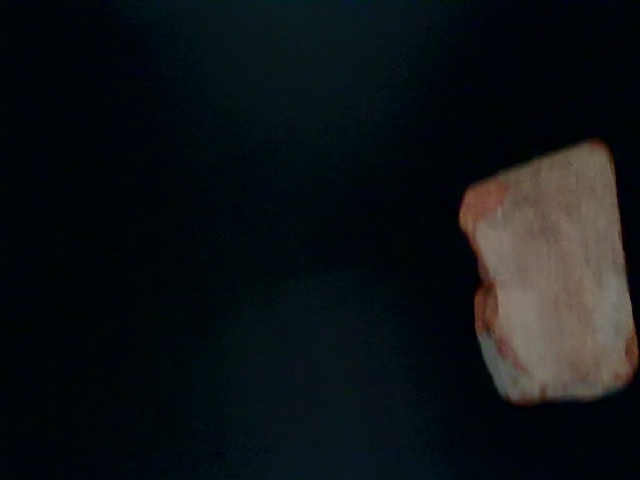KHSLJ: (54, 374, 315, 480)
